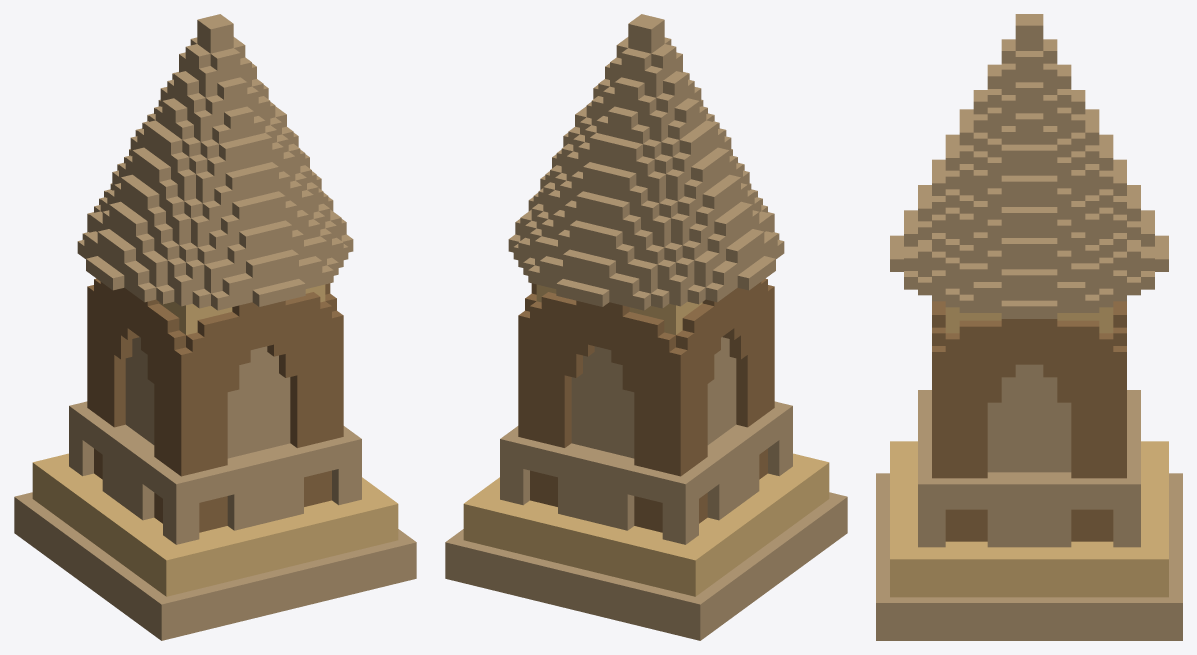
File: TemplePillar2.obj
3 renders of one model, left to right at view 1: azimuth 30°, elevation 25°; view 2: azimuth 150°, elevation 25°; view 3: azimuth 270°, elevation 25°, orthographic. The views are drawn at different scales.
Bounding box in the file's own units: 2.2 × 4.4 × 2.2.
Materials: 1 (1 with a texture image).
